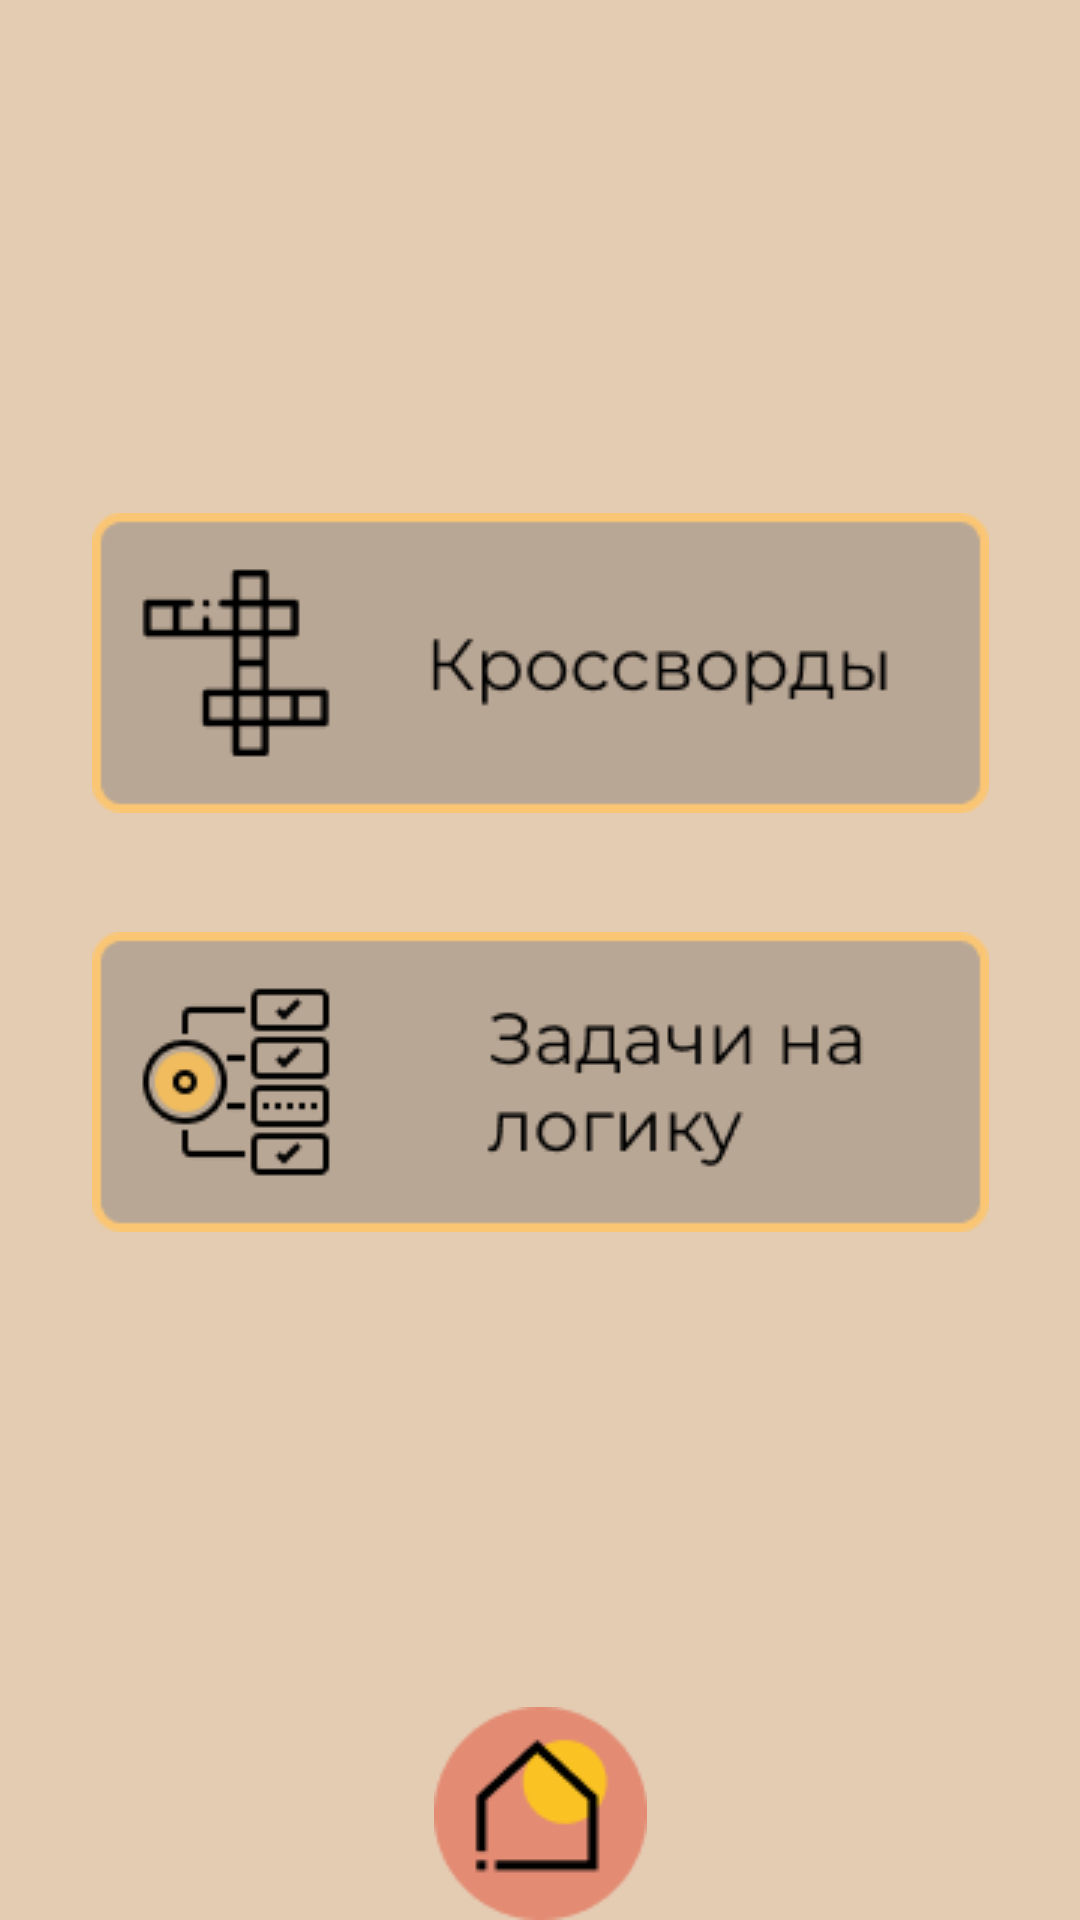

Icons on this 1080*1920 Android screen, each with its box as (x1, y1, x2, y2):
home: (434, 1707, 647, 1920)
